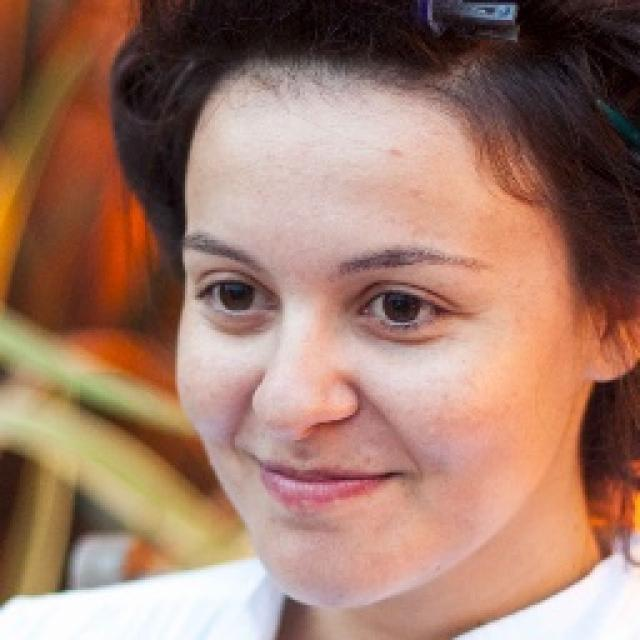earlobe: (585, 328, 627, 382)
eye: (355, 286, 451, 329), (204, 279, 273, 318)
nose: (258, 417, 353, 460)
wholeear: (585, 263, 640, 382)
